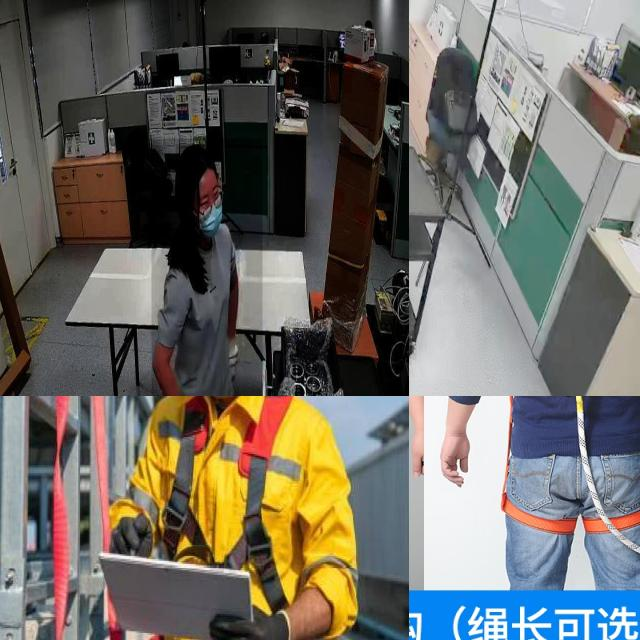Harness: (162, 396, 293, 612), (500, 396, 640, 533)
face_mask: (187, 162, 229, 242)
head_nohelmet: (176, 144, 216, 170)
person: (151, 138, 262, 396)
